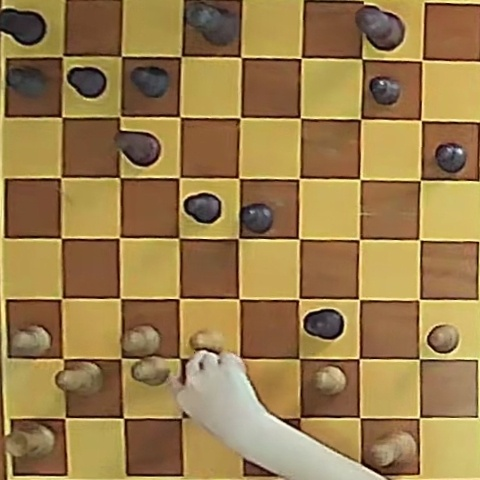black-king: (356, 6, 404, 51)
black-knight: (115, 132, 159, 167)
black-pawn: (7, 66, 48, 98), (67, 67, 107, 98), (131, 66, 170, 97), (184, 193, 221, 224), (241, 203, 273, 233), (435, 143, 466, 173), (370, 77, 401, 105)
black-queen: (185, 2, 238, 45)
black-rook: (0, 8, 46, 47), (304, 309, 344, 340)
white-bishop: (56, 361, 103, 395)
white-king: (371, 430, 417, 469)
white-pawn: (11, 325, 52, 356), (131, 356, 171, 386), (122, 325, 160, 355), (427, 324, 459, 353), (190, 328, 225, 354), (315, 366, 346, 395)
white-rook: (6, 421, 57, 459)
